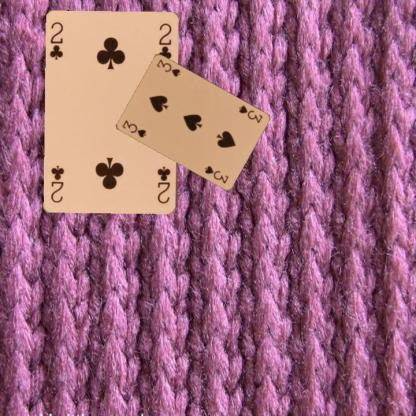2c: (47, 20, 65, 61), (155, 164, 172, 205)
3s: (120, 118, 147, 140), (236, 103, 263, 124)
